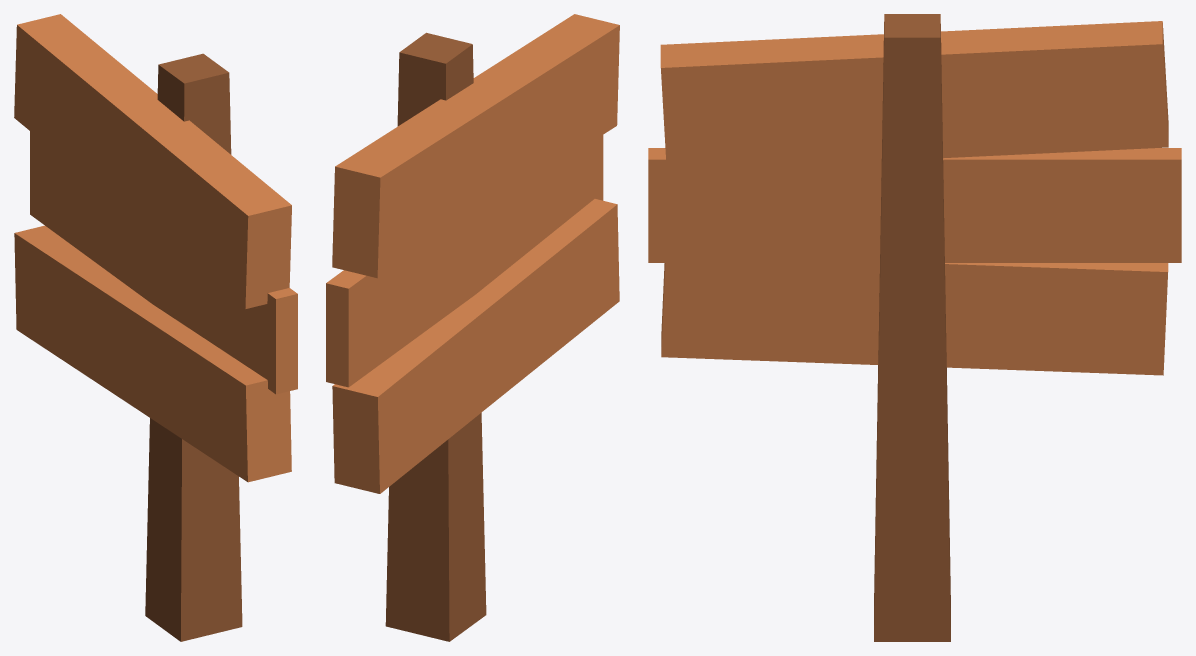
Rendered from sign.fbx.
3 renders of one model, left to right at view 1: azimuth 30°, elevation 25°; view 2: azimuth 150°, elevation 25°; view 3: azimuth 270°, elevation 25°, orthographic. The views are drawn at different scales.
Parts seen in each view (by area): view 1: sign; view 2: sign; view 3: sign.
Part boxes in pixels (<box>): sign: <box>14,14,297,641</box>; sign: <box>326,14,619,641</box>; sign: <box>648,14,1181,641</box>.
Bounding box in the file's own units: 1.05 × 6 × 4.83.
